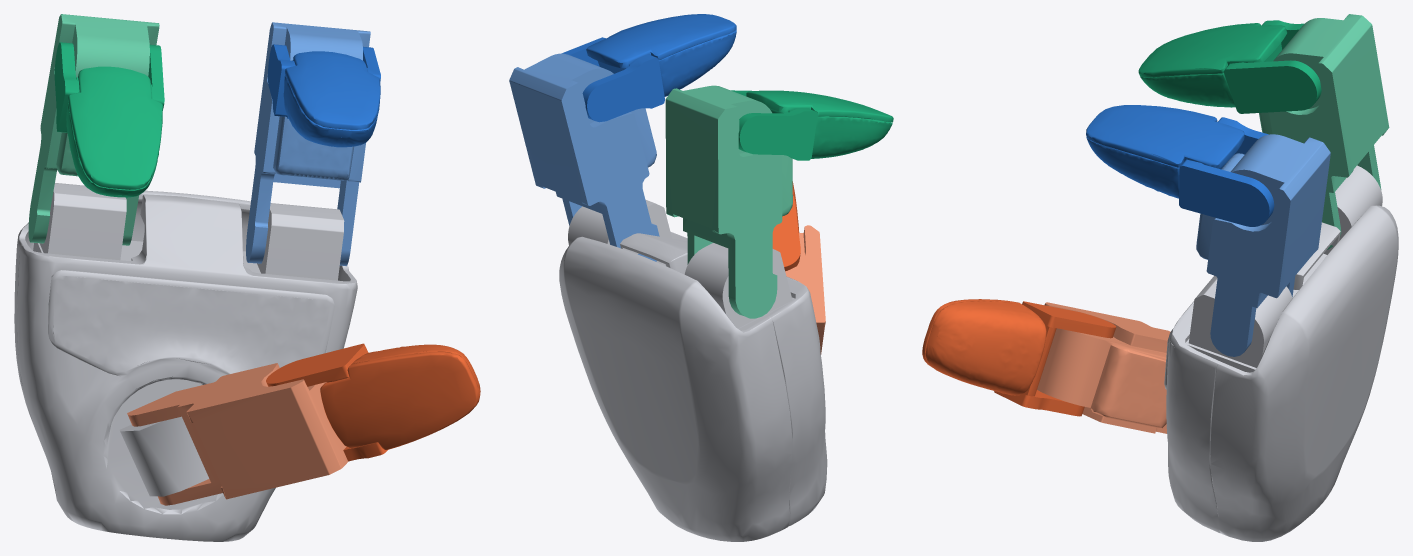
The model's file is dex3.glb.
The picture shows the model from 3 angles, left to right: view 1: azimuth 30°, elevation 25°; view 2: azimuth 150°, elevation 25°; view 3: azimuth 270°, elevation 25°; orthographic projection. The views are drawn at different scales.
Visible parts, largest first — view 1: hand; view 2: hand; view 3: hand.
Part boxes in pixels (x1,y1,x2,y2): hand: (14,14,480,541); hand: (509,14,893,541); hand: (922,14,1398,541).
Bounding box in the file's own units: 0.103 × 0.141 × 0.129.
